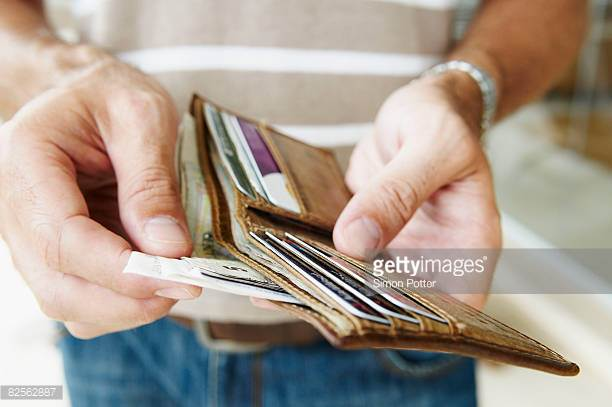monedero: (177, 91, 582, 380)
